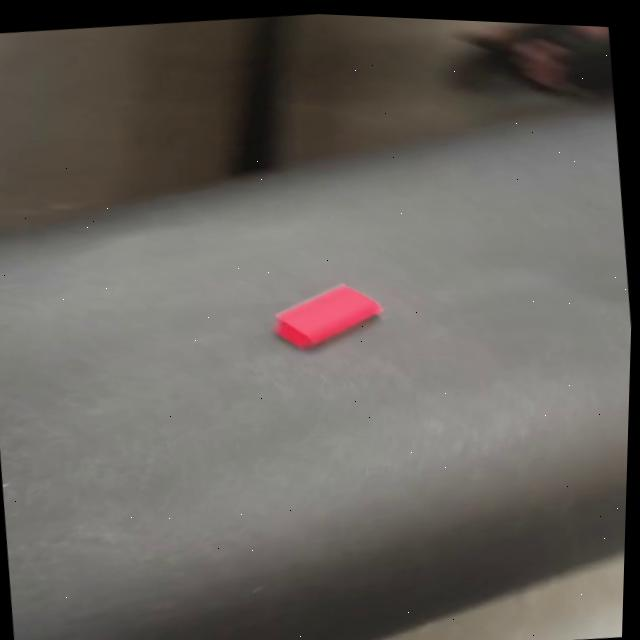red block: (267, 274, 387, 354)
